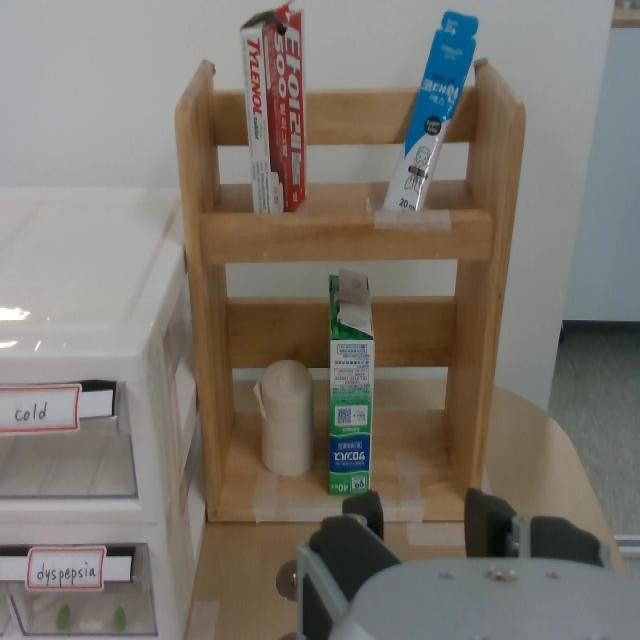bandage: (256, 354, 316, 478)
codaewon_syrup: (379, 18, 478, 210)
sore_patch: (331, 270, 369, 494)
tylenol: (241, 15, 310, 215)
